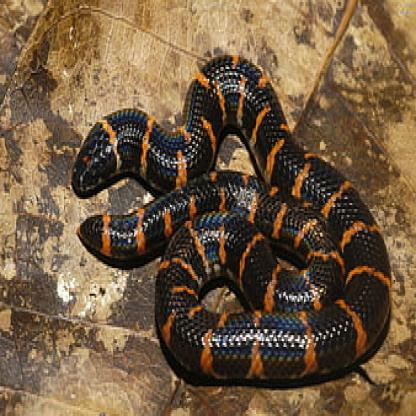Snake: (72, 51, 395, 380)
